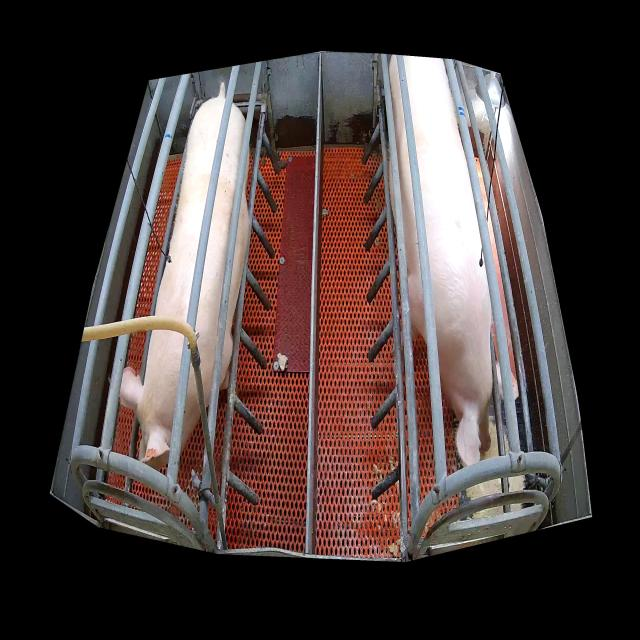pig: (119, 98, 249, 471), (389, 57, 492, 467)
